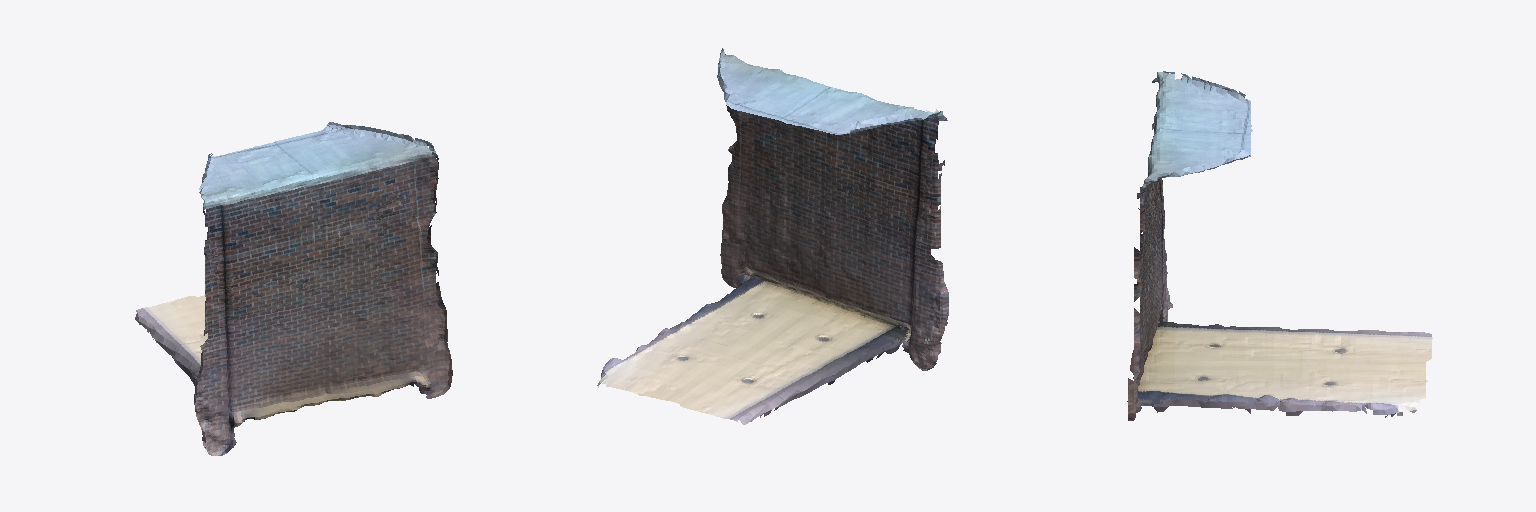
3 renders of one model, left to right at view 1: azimuth 30°, elevation 25°; view 2: azimuth 150°, elevation 25°; view 3: azimuth 270°, elevation 25°, orthographic.
Bounding box in the file's own units: 4.25 × 4.51 × 4.66.
Materials: 1 (1 with a texture image).